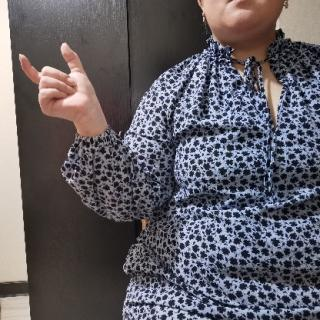NOON: (16, 39, 95, 123)
